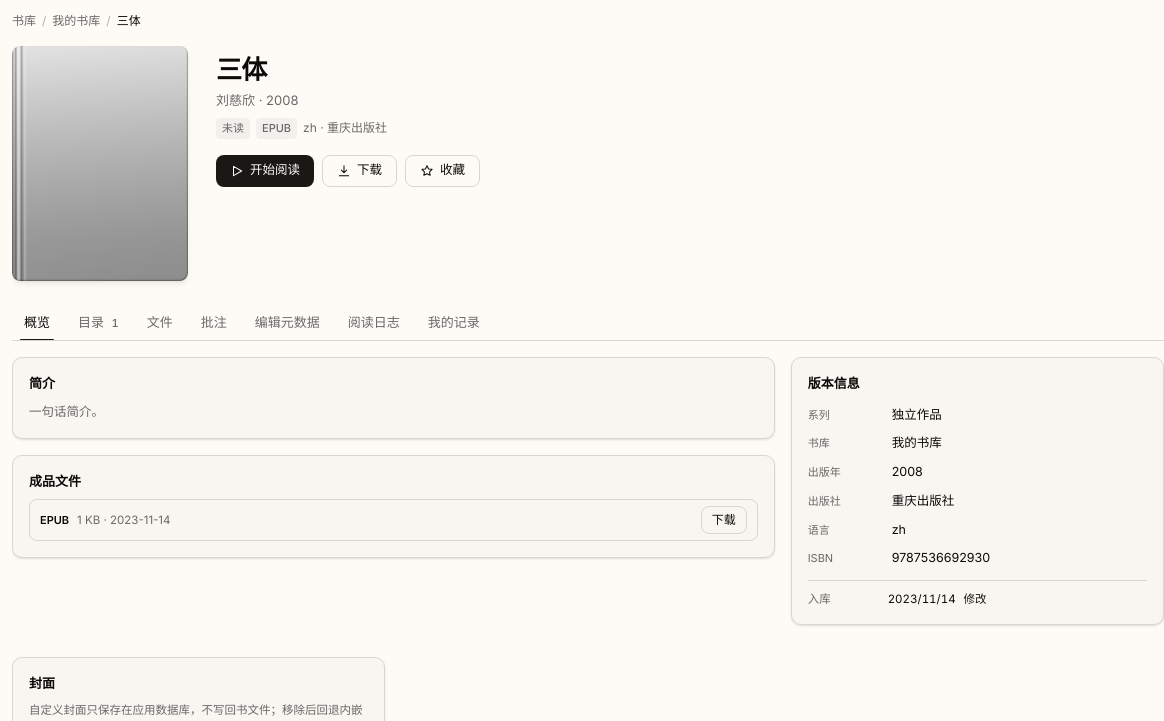
Test: BookDetailView › 「阅读日志」标签点得开，且自取数据没被漏掉的桩挡住
Click the button "阅读日志" at (374, 322), box [336,305,412,340]
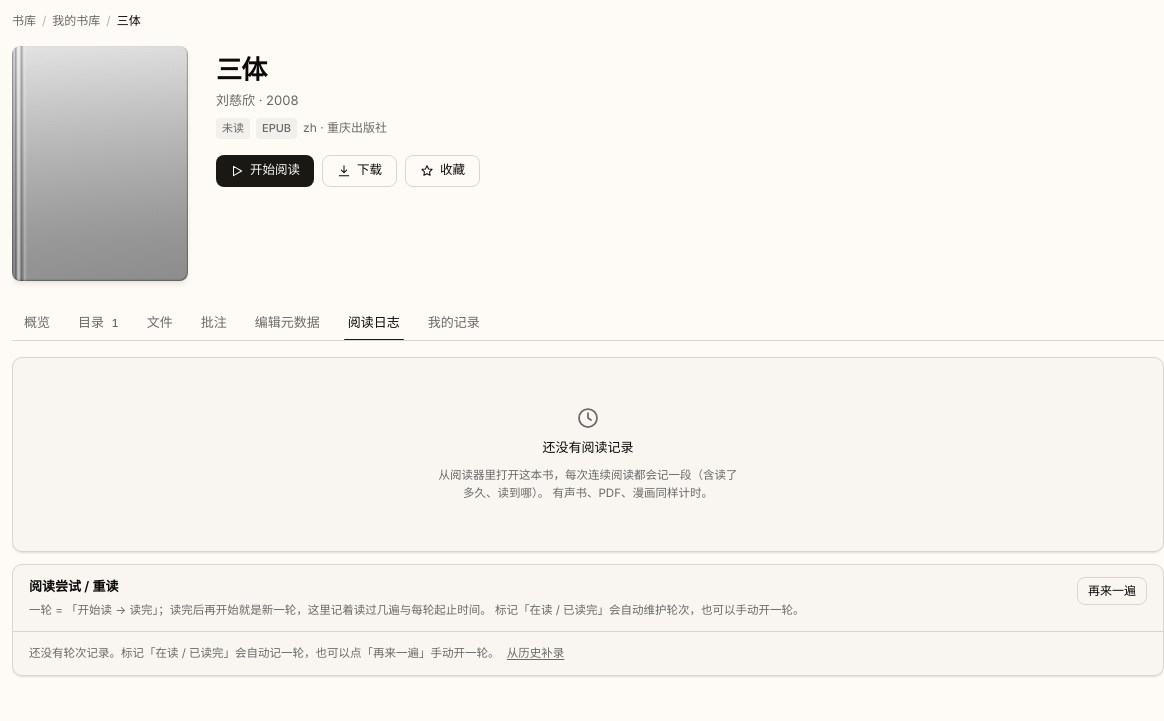
Result: the text "还没有阅读记录" is shown at [542,438,634,458]
